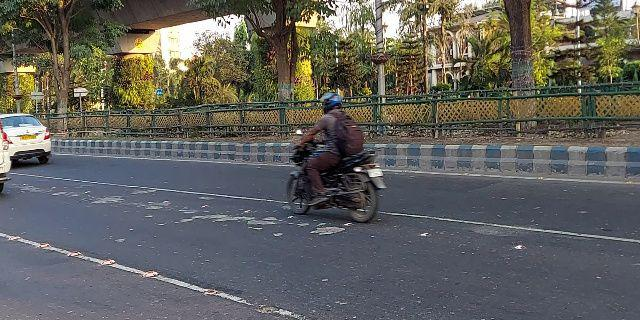Car: (1, 113, 53, 166)
Motorbike: (282, 89, 389, 224)
